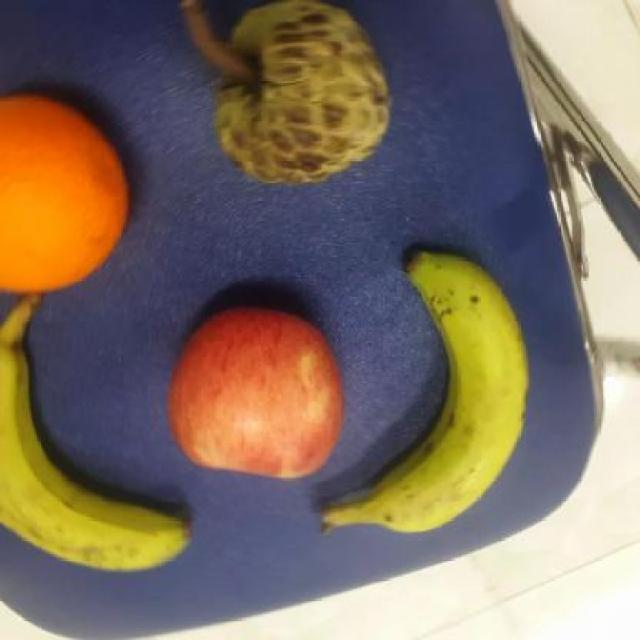apple: (165, 296, 349, 490)
banana: (345, 245, 540, 548), (1, 312, 184, 576)
oren: (0, 90, 132, 297)
sugar apple: (186, 0, 400, 191)
